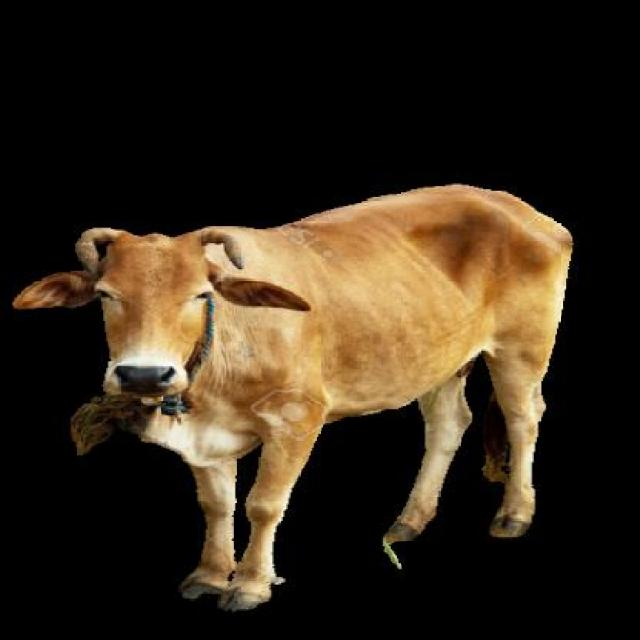Cow: (9, 178, 582, 617)
